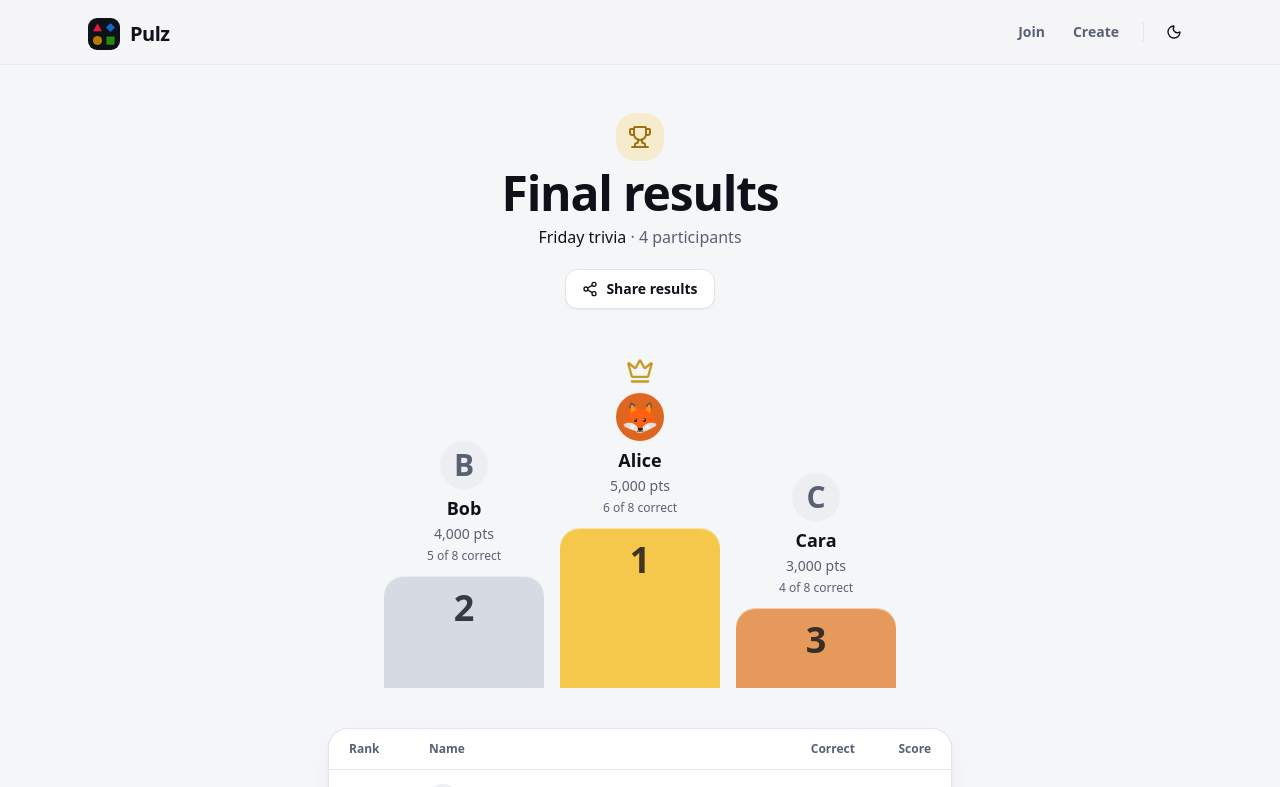
Test case: ResultsPage › shares the results as an image, saying so when it fell back to a download (Decision #78)
Expected: the text "Friday trivia" is shown, [538,226,626,248]
Click the button "Share results" at (640, 289), box [565,269,715,309]
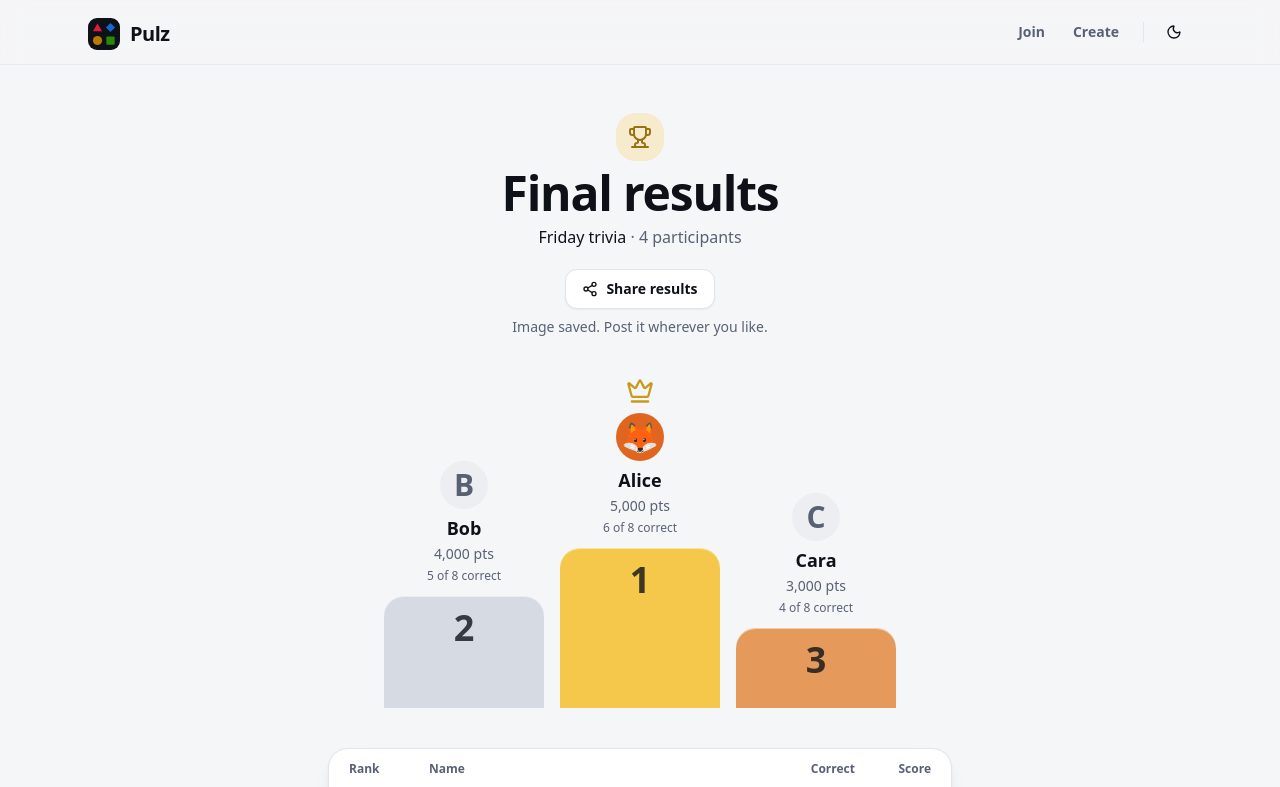
Result: the text "Image saved. Post it wherever you like." is shown at [512,317,768,337]
